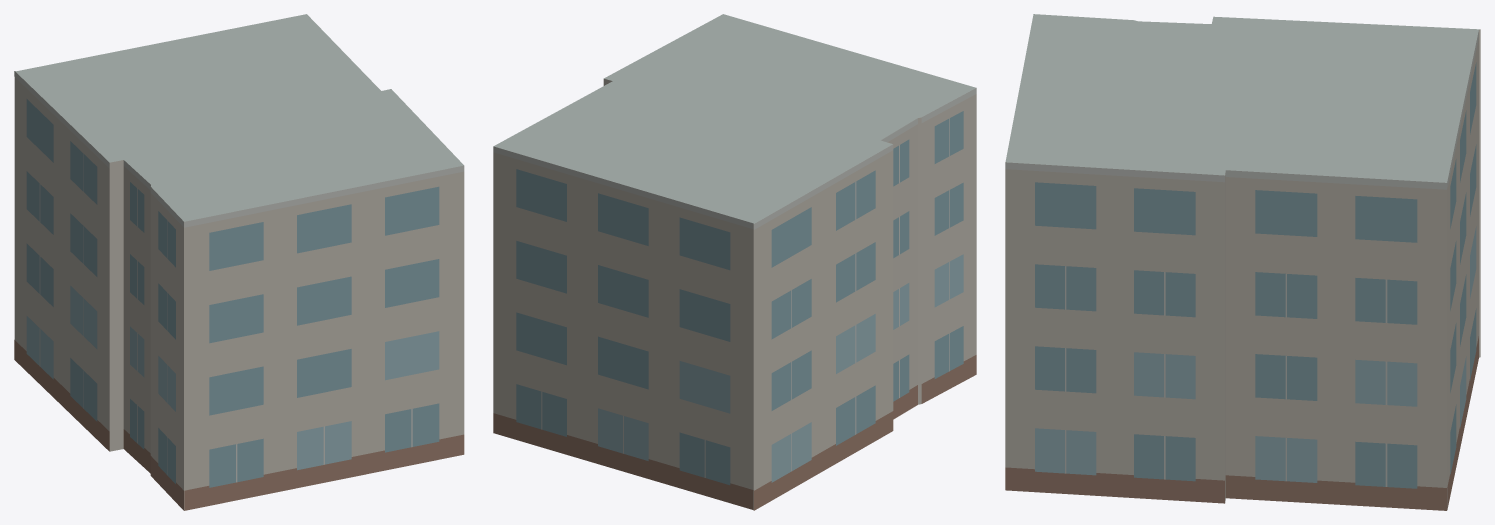
The model's file is survey-upis-32772042.glb.
3 renders of one model, left to right at view 1: azimuth 30°, elevation 25°; view 2: azimuth 150°, elevation 25°; view 3: azimuth 270°, elevation 25°, orthographic. The views are drawn at different scales.
Parts seen in each view (by area): view 1: survey-upis-32772042.tmp; view 2: survey-upis-32772042.tmp; view 3: survey-upis-32772042.tmp.
Part boxes in pixels (<box>): survey-upis-32772042.tmp: <box>14,14,464,510</box>; survey-upis-32772042.tmp: <box>493,14,976,510</box>; survey-upis-32772042.tmp: <box>1005,14,1480,510</box>.
Size of the model in its own units: 13.04 by 11.8 by 15.5.
